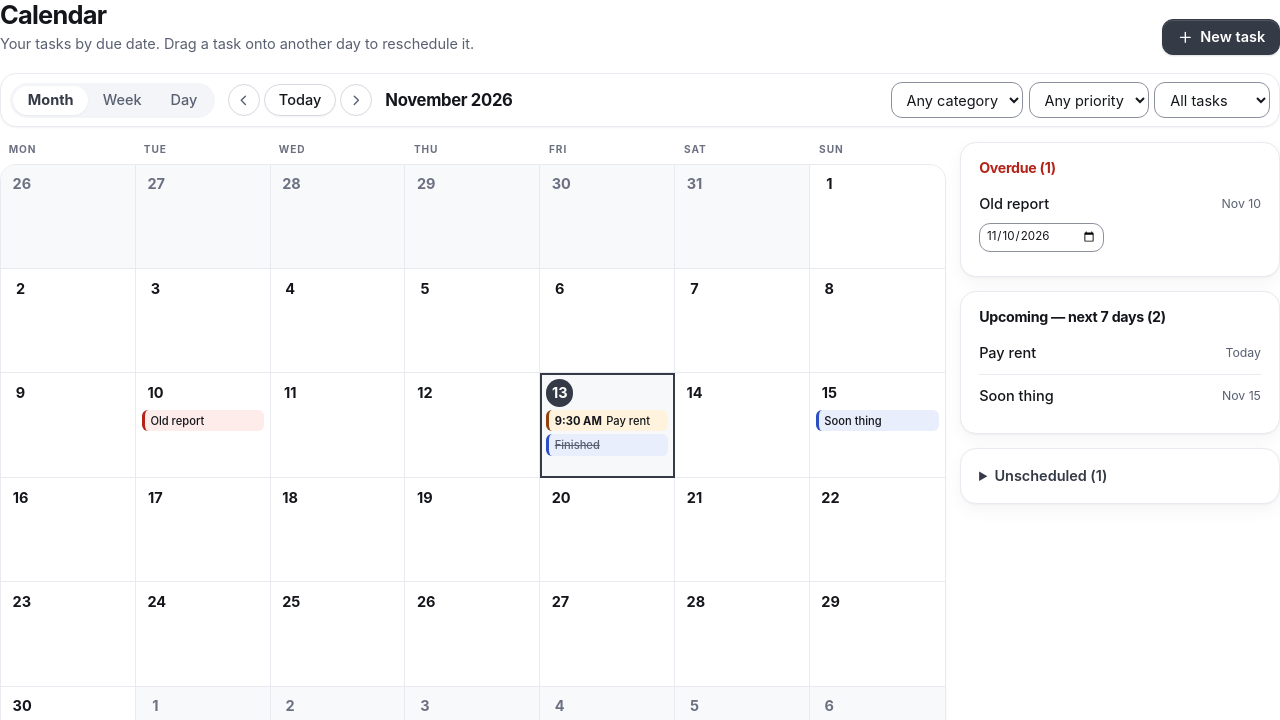
Test: Calendar › lists overdue and upcoming tasks, and unscheduled ones separately
Expected: the button "Pay rent" is shown, [546, 410, 668, 432]
Expected: the button "Old report" next to "Nov 10" is shown, [979, 193, 1211, 215]
Click the heading "Unscheduled (1)": (1051, 476) [994, 467, 1107, 484]
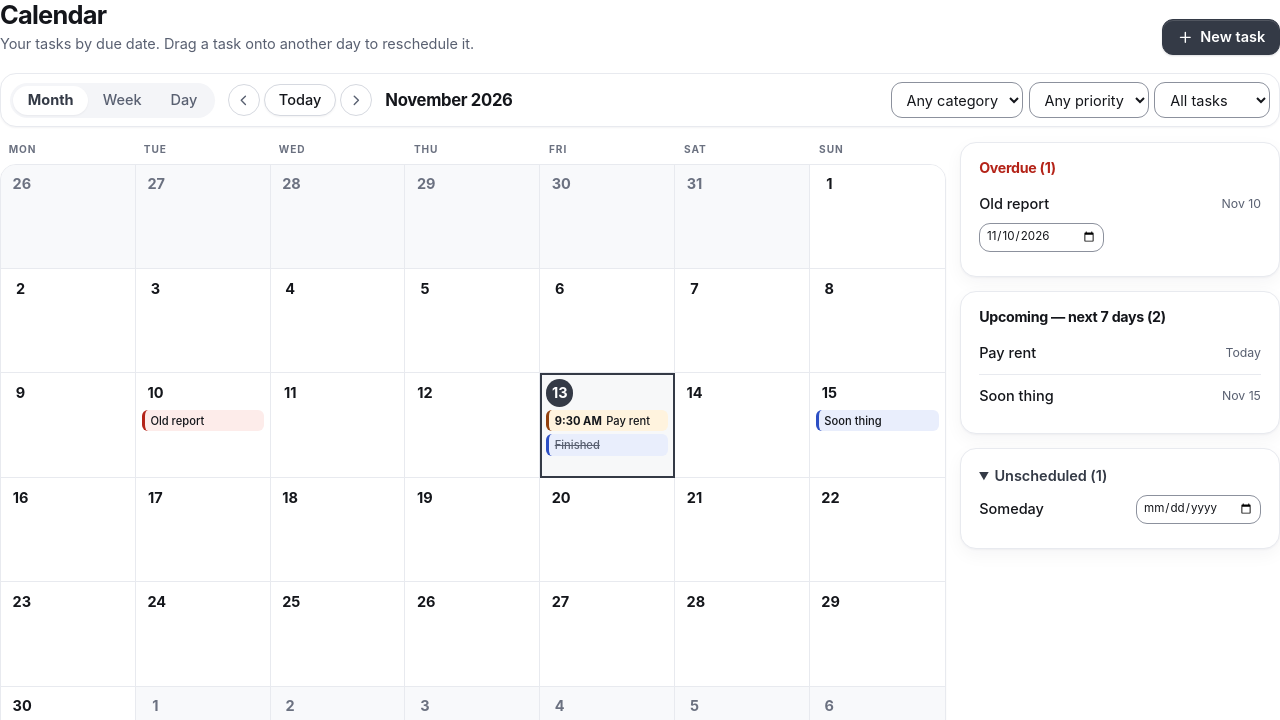
Expected: the button "Someday" is shown, [979, 498, 1126, 520]
